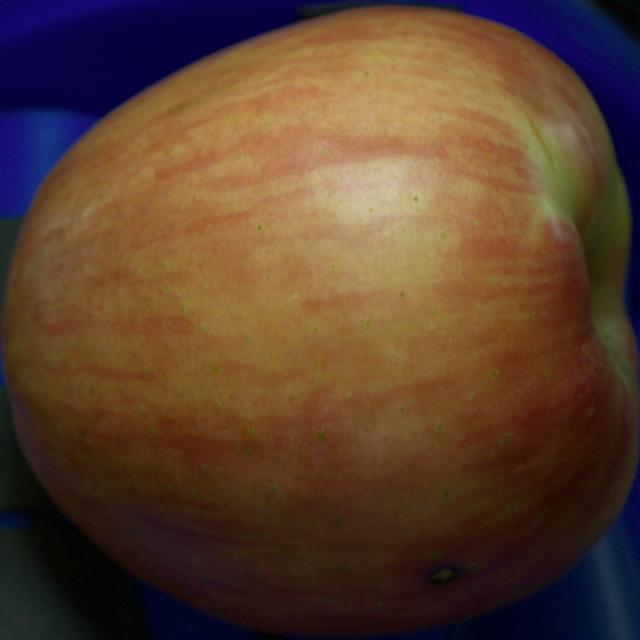apple: (2, 7, 639, 636)
pest: (428, 566, 460, 586)
